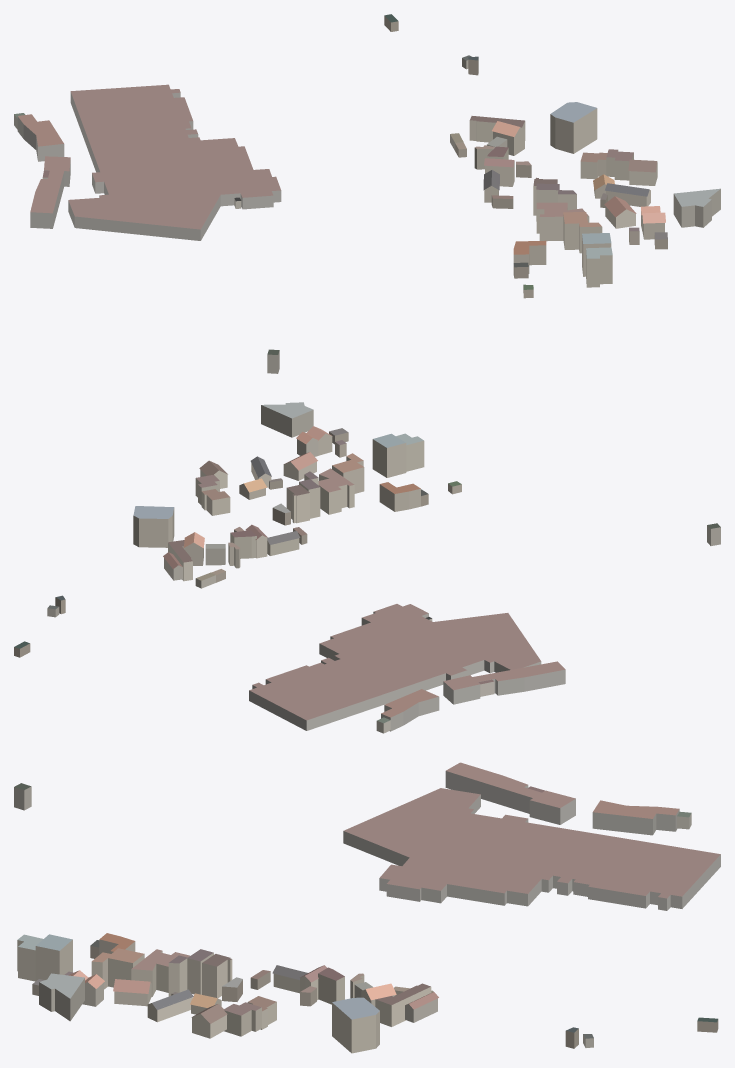
The picture shows the model from 3 angles, top to bottom: view 1: azimuth 30°, elevation 25°; view 2: azimuth 150°, elevation 25°; view 3: azimuth 270°, elevation 25°; orthographic projection. The views are drawn at different scales.
Parts seen in each view (by area): view 1: tuile; view 2: tuile; view 3: tuile.
Part boxes in pixels (left/top/right/bottom): tuile: left=14, top=14, right=720, bottom=373; tuile: left=14, top=402, right=720, bottom=733; tuile: left=14, top=762, right=720, bottom=1053.
Size of the model in its own units: 232 by 22.17 by 253.
